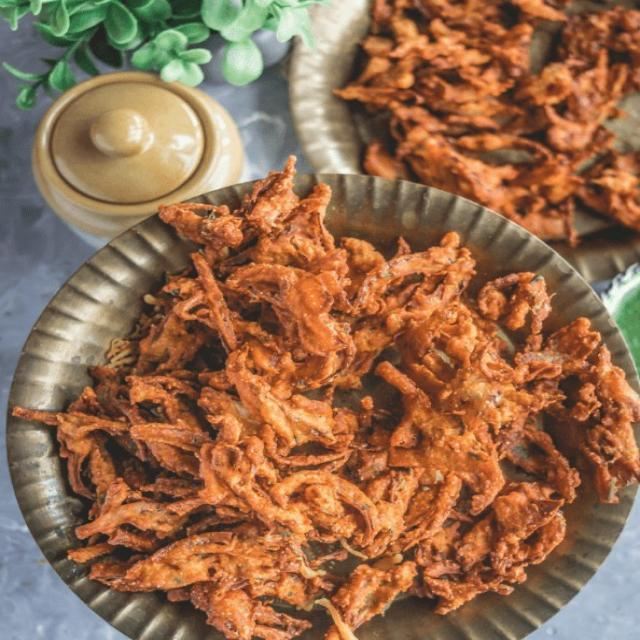Onion Pakora: (16, 152, 637, 640), (345, 0, 640, 241)
